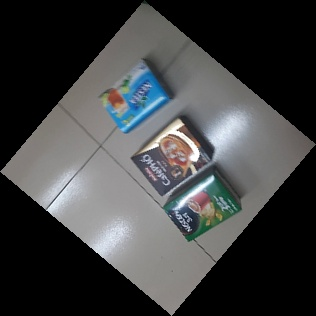CF pho: (131, 116, 213, 196)
Nes Rang: (161, 166, 243, 243)
Nestea: (99, 58, 175, 132)
